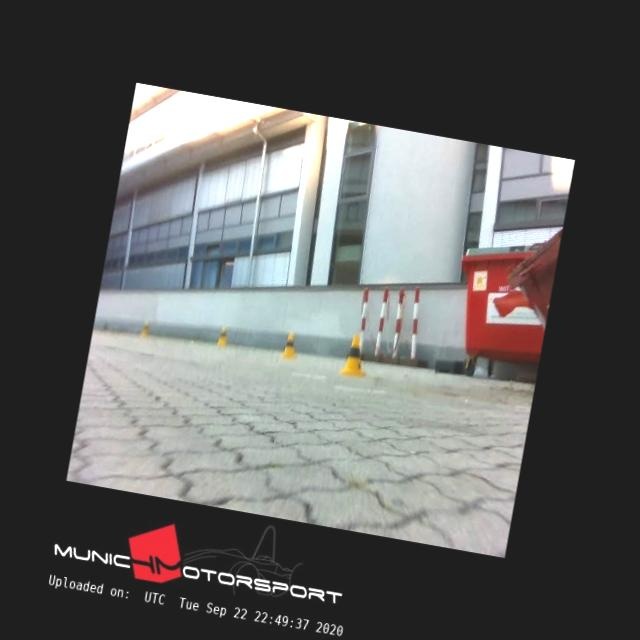yellow_cone: (339, 332, 371, 377), (280, 332, 298, 358), (215, 326, 228, 346), (140, 320, 150, 336)
